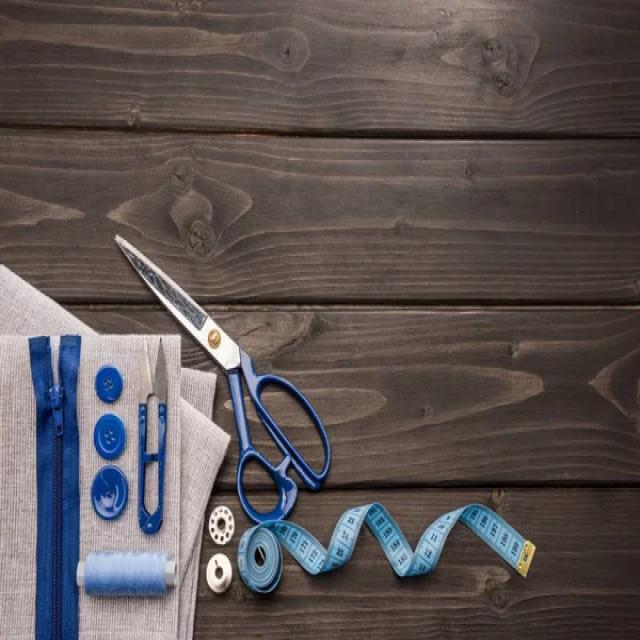tesoura: (108, 222, 336, 534)
